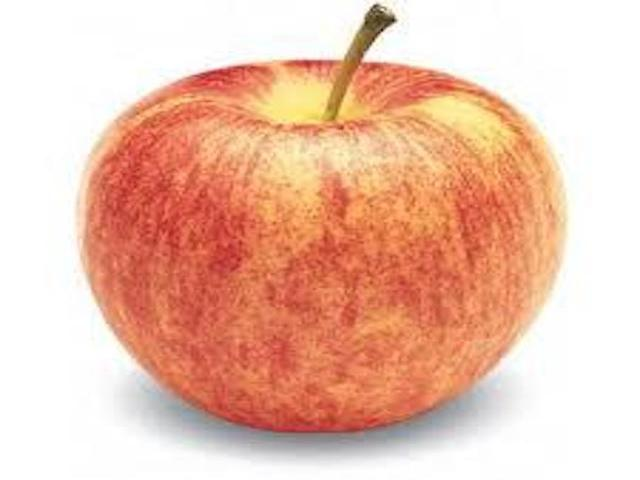apple: (56, 4, 576, 442)
